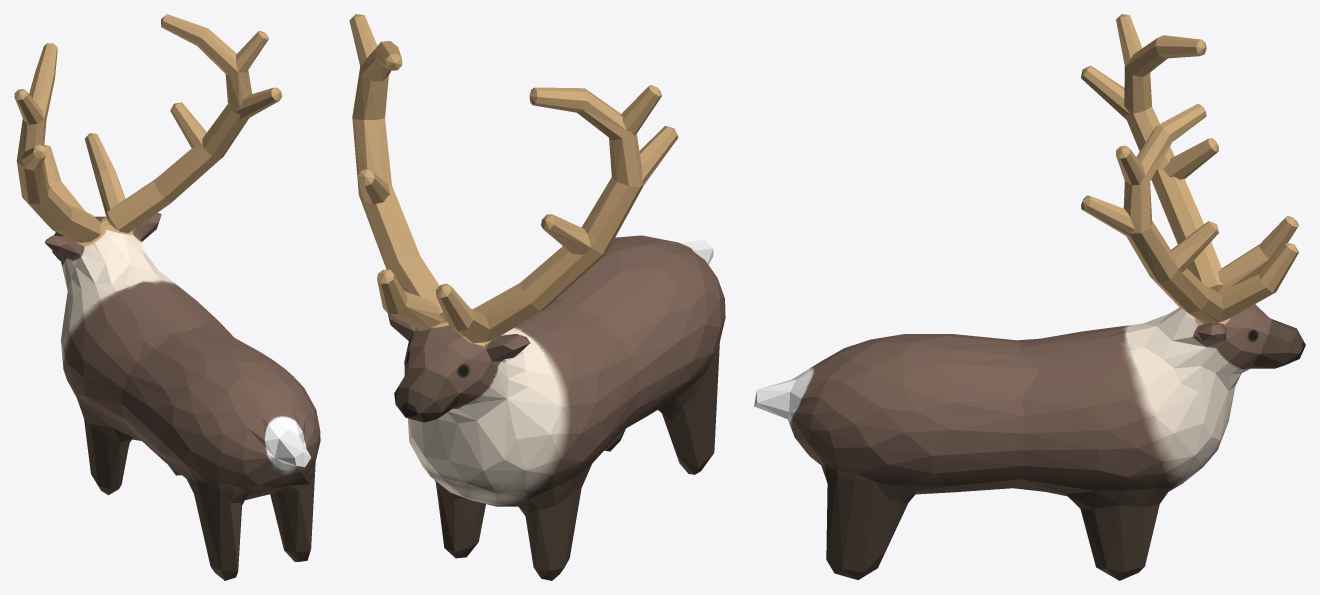
File: animal_caribou_blob.obj
The picture shows the model from 3 angles, left to right: view 1: azimuth 30°, elevation 25°; view 2: azimuth 150°, elevation 25°; view 3: azimuth 270°, elevation 25°; orthographic projection. The views are drawn at different scales.
Parts seen in each view (by area): view 1: animal_caribou_blob; view 2: animal_caribou_blob; view 3: animal_caribou_blob.
Part boxes in pixels (x1,y1,x2,y2): animal_caribou_blob: (14, 14, 320, 580); animal_caribou_blob: (349, 14, 725, 580); animal_caribou_blob: (754, 14, 1305, 580).
Bounding box in the file's own units: 0.8018 × 1.3 × 1.34.
